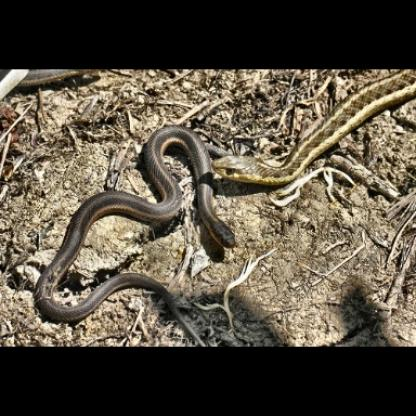Snake: (33, 127, 238, 322), (221, 69, 416, 187)
